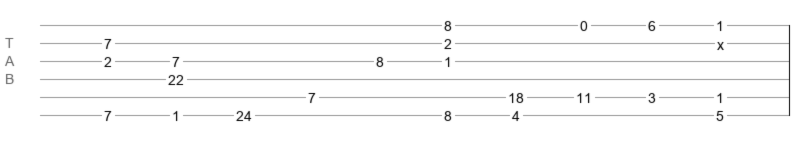0: (580, 18, 588, 28)
1: (172, 108, 180, 118), (444, 54, 452, 64), (716, 90, 724, 100), (716, 18, 724, 28)
11: (576, 90, 592, 100)
18: (508, 90, 524, 100)
2: (104, 54, 112, 64), (444, 36, 452, 46)
22: (168, 72, 184, 82)
24: (236, 108, 252, 118)
3: (648, 90, 656, 100)
4: (512, 108, 520, 118)
5: (716, 108, 724, 118)
6: (648, 18, 656, 28)
7: (104, 108, 112, 118), (104, 36, 112, 46), (172, 54, 180, 64), (308, 90, 316, 100)
8: (376, 54, 384, 64), (444, 108, 452, 118), (444, 18, 452, 28)
x: (717, 37, 724, 45)
